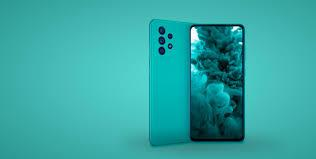Smartphone: (185, 22, 247, 148), (147, 18, 197, 143)
